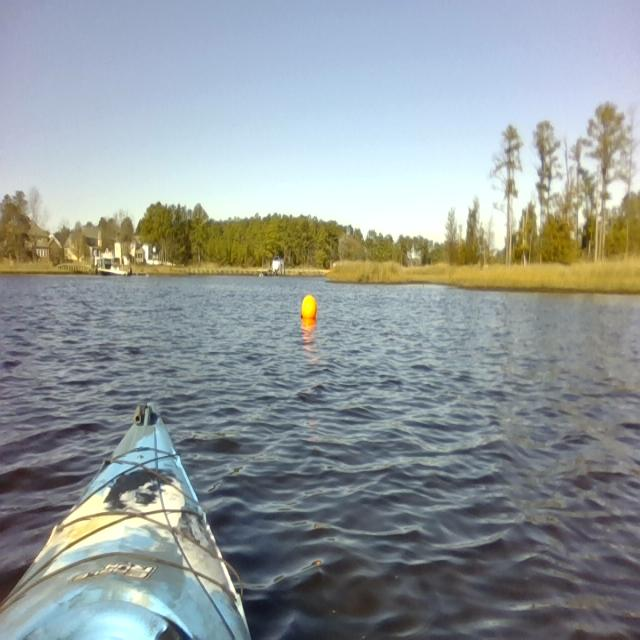Buoy: (300, 290, 320, 324)
